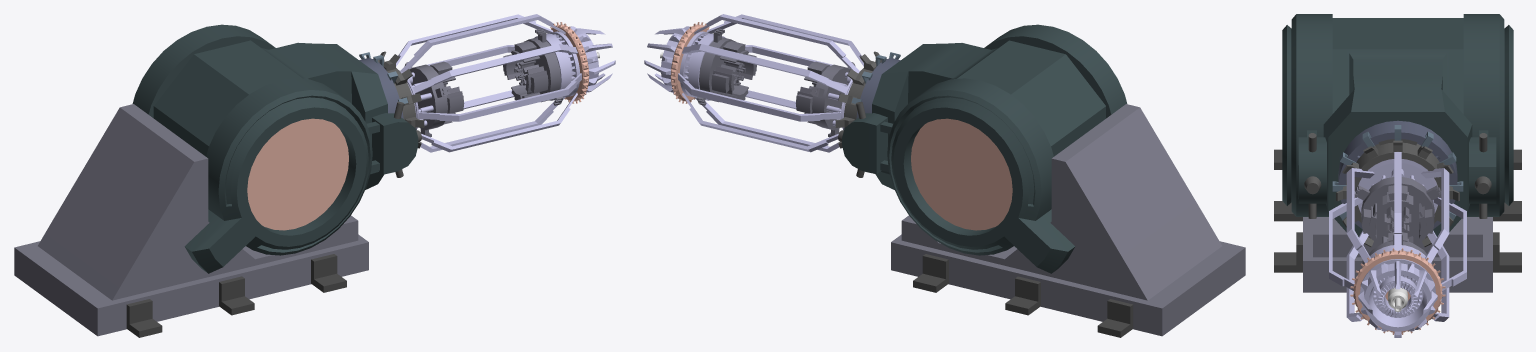
Rendered from MaquinaDelTiempo.fbx.
The picture shows the model from 3 angles, left to right: view 1: azimuth 30°, elevation 25°; view 2: azimuth 150°, elevation 25°; view 3: azimuth 270°, elevation 25°; orthographic projection. The views are drawn at different scales.
Visible parts, largest first — view 1: NurbsPath.002; view 2: NurbsPath.002; view 3: NurbsPath.002.
Part boxes in pixels (x1,y1,x2,y2): NurbsPath.002: [14, 14, 615, 337]; NurbsPath.002: [644, 14, 1245, 337]; NurbsPath.002: [1274, 14, 1521, 337].
Bounding box in the file's own units: 2575 × 892 × 883.
